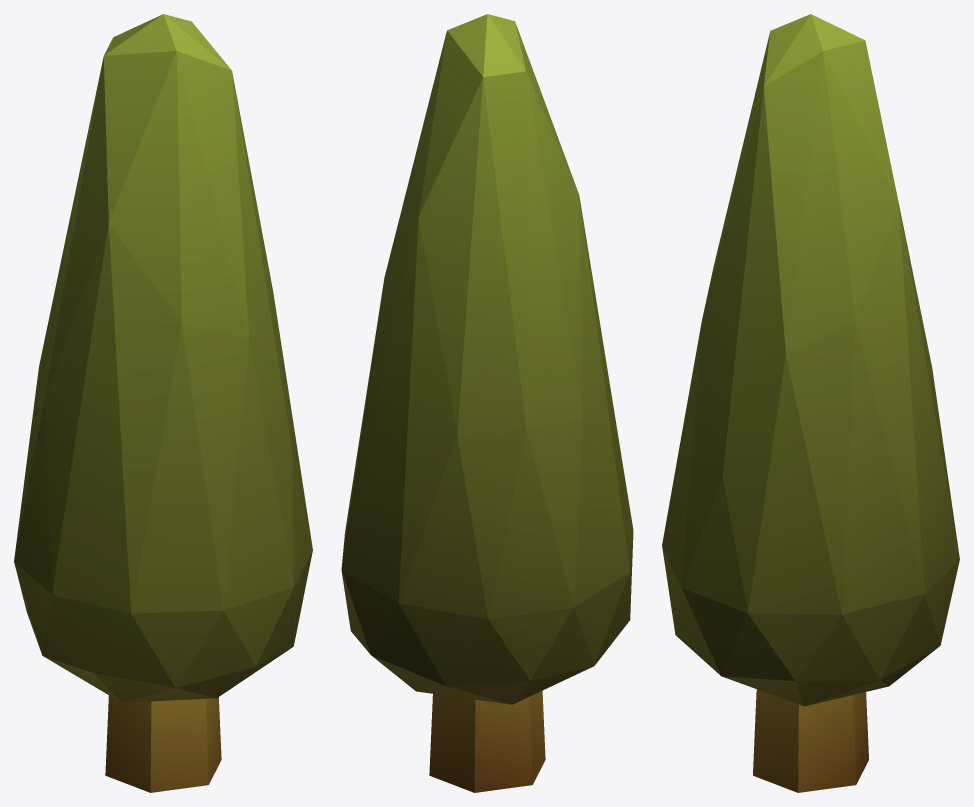
File: treeTallOne2.fbx
3 renders of one model, left to right at view 1: azimuth 30°, elevation 25°; view 2: azimuth 150°, elevation 25°; view 3: azimuth 270°, elevation 25°, orthographic.
Visible parts, largest first — view 1: Cylinder.003; view 2: Cylinder.003; view 3: Cylinder.003.
Boxes of the visible parts, box(x1,y1,x2,y2) form: Cylinder.003: box(14, 14, 312, 792); Cylinder.003: box(341, 14, 633, 792); Cylinder.003: box(662, 14, 959, 792).
Bounding box in the file's own units: 153 × 433 × 155.
